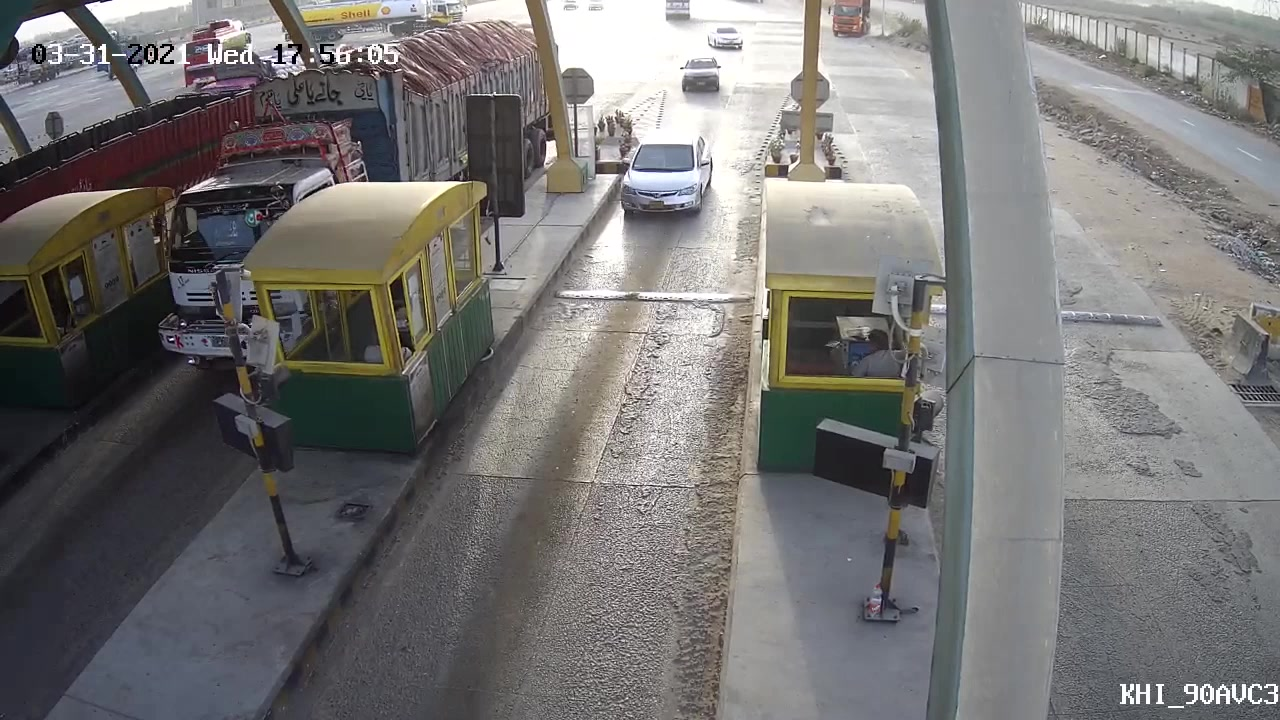F1: (608, 128, 721, 227)
